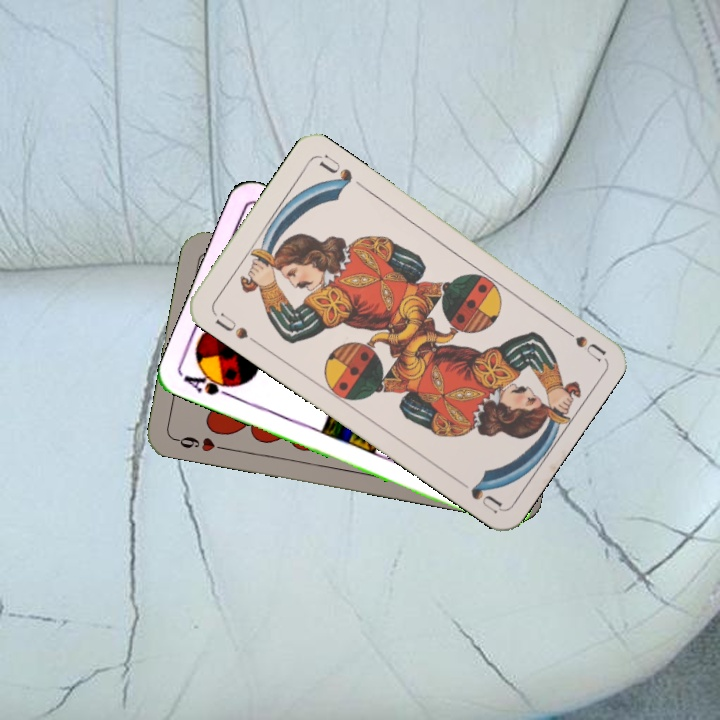H9: (171, 432, 229, 455)
SA: (180, 367, 241, 401)
SU: (553, 320, 607, 363), (211, 309, 261, 347)
